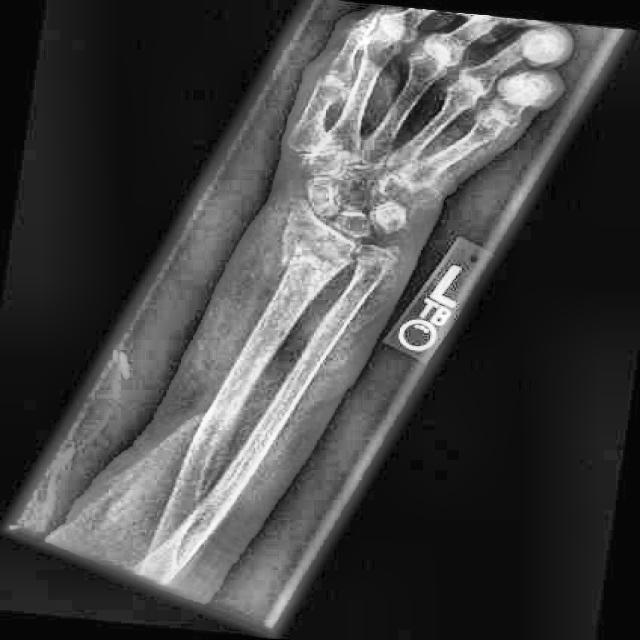fingers positive: (247, 220, 387, 292)
